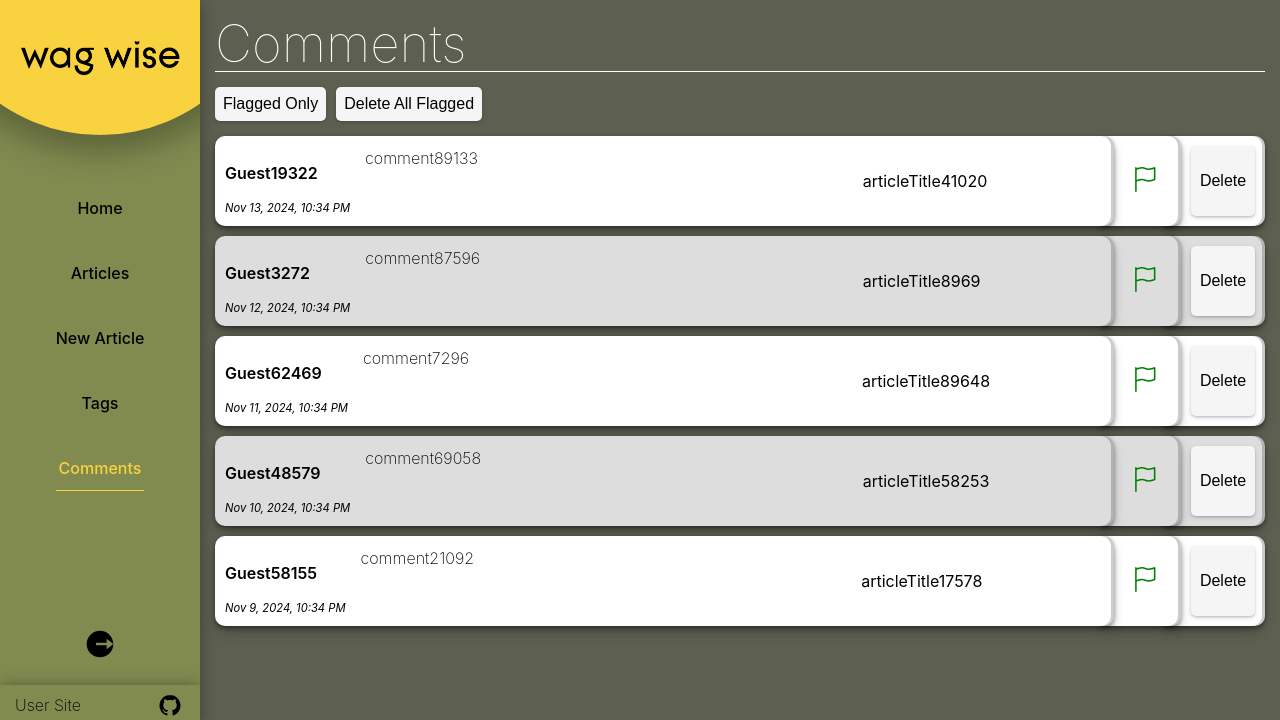
Test case: Comment route user event tests › Error message if flagged only clicked with no flagged comments
Click the button "Flagged Only" at point(271, 104), box [215, 87, 326, 121]
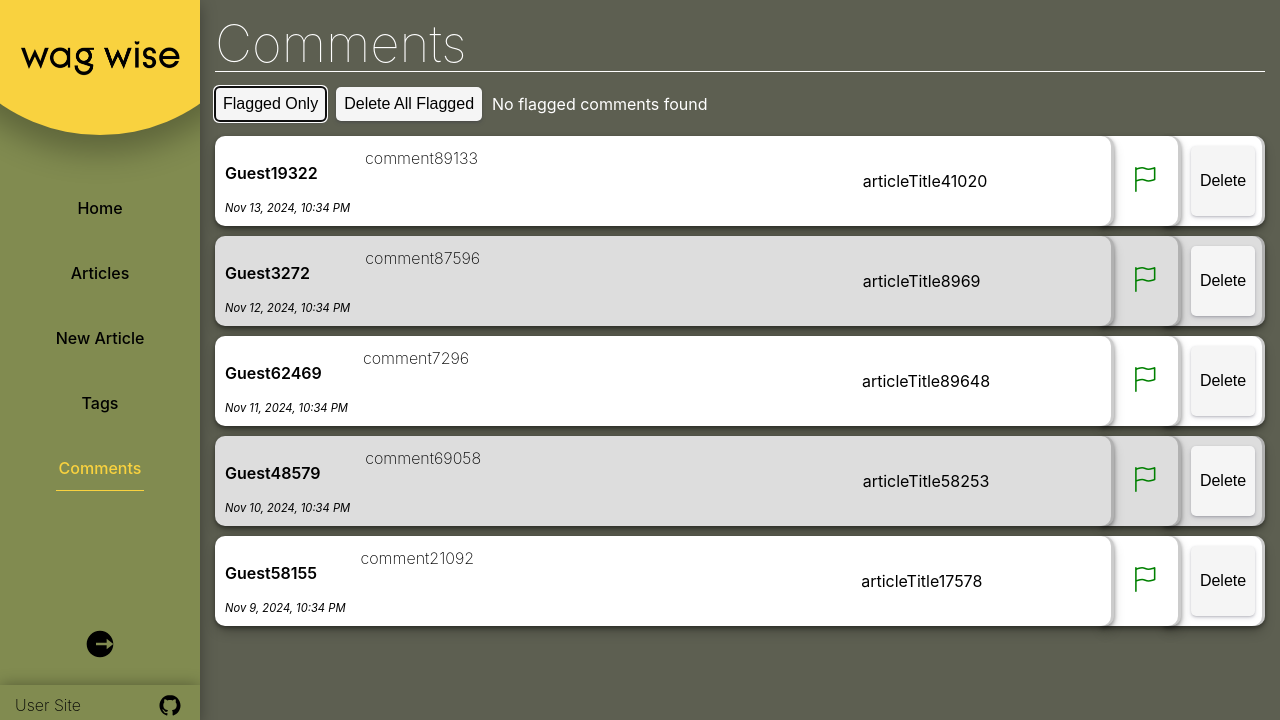
expect the text "No flagged comments found" is shown: met, box [492, 92, 708, 116]
